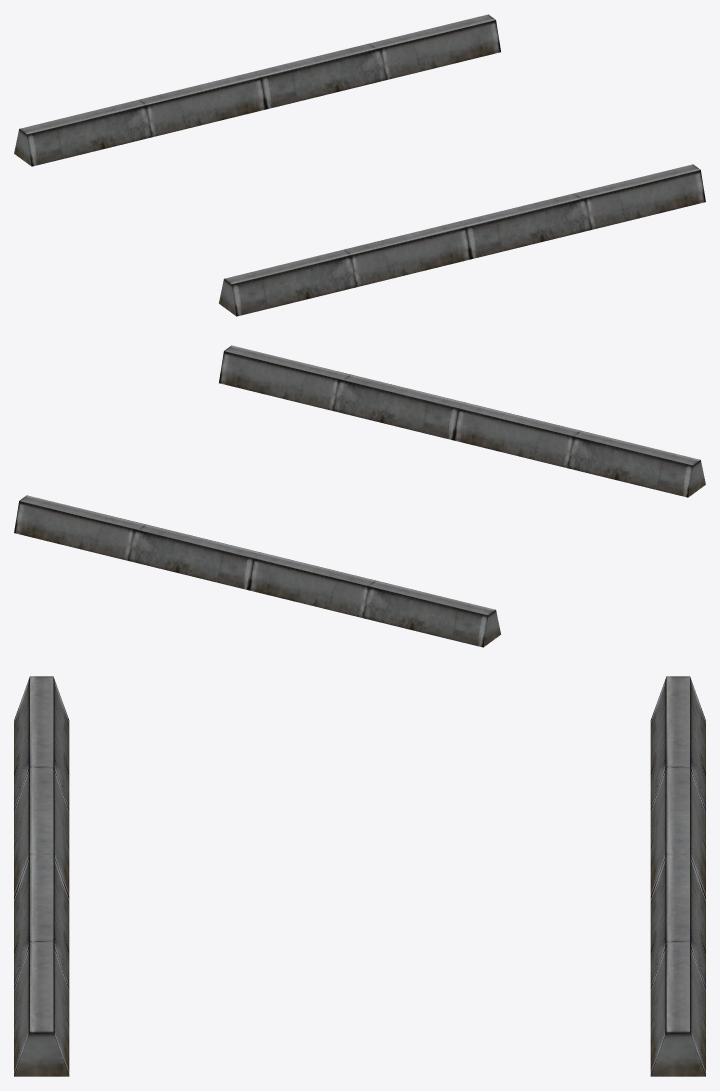
File: bridge_hdtex.glb
The picture shows the model from 3 angles, top to bottom: view 1: azimuth 30°, elevation 25°; view 2: azimuth 150°, elevation 25°; view 3: azimuth 270°, elevation 25°; orthographic projection. The views are drawn at different scales.
Parts seen in each view (by area): view 1: Box01; view 2: Box01; view 3: Box01.
Boxes of the visible parts, x1=… form: Box01: x1=14, y1=14, x2=705, y2=316; Box01: x1=14, y1=345, x2=705, y2=647; Box01: x1=14, y1=676, x2=705, y2=1076.
Bounding box in the file's own units: 25.6 × 1.49 × 21.03.
Materials: 1 (1 with a texture image).
